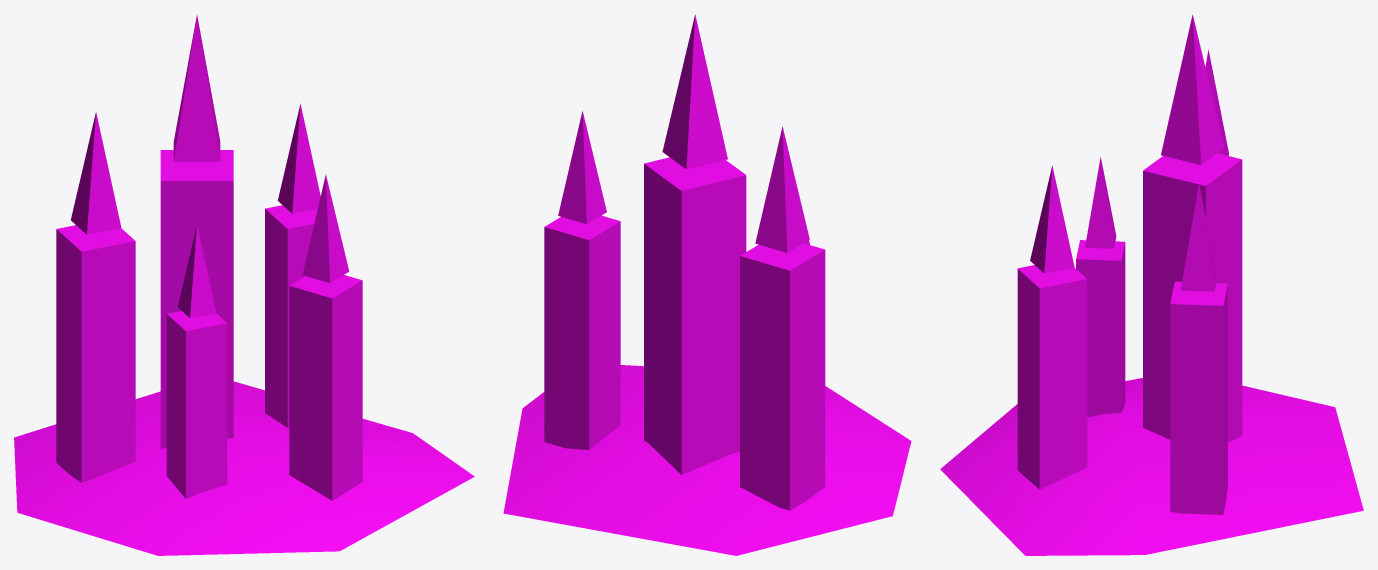
3 views of the same model, side by side, from view 1: azimuth 30°, elevation 25°; view 2: azimuth 150°, elevation 25°; view 3: azimuth 270°, elevation 25° (orthographic). The views are drawn at different scales.
Visible parts, largest first — view 1: candle_j_03; view 2: candle_j_03; view 3: candle_j_03.
Boxes of the visible parts, bbox=[...] form: candle_j_03: bbox=[14, 15, 474, 555]; candle_j_03: bbox=[503, 14, 911, 555]; candle_j_03: bbox=[940, 15, 1363, 555].
Bounding box in the file's own units: 0.0119 × 0.0134 × 0.0115.
